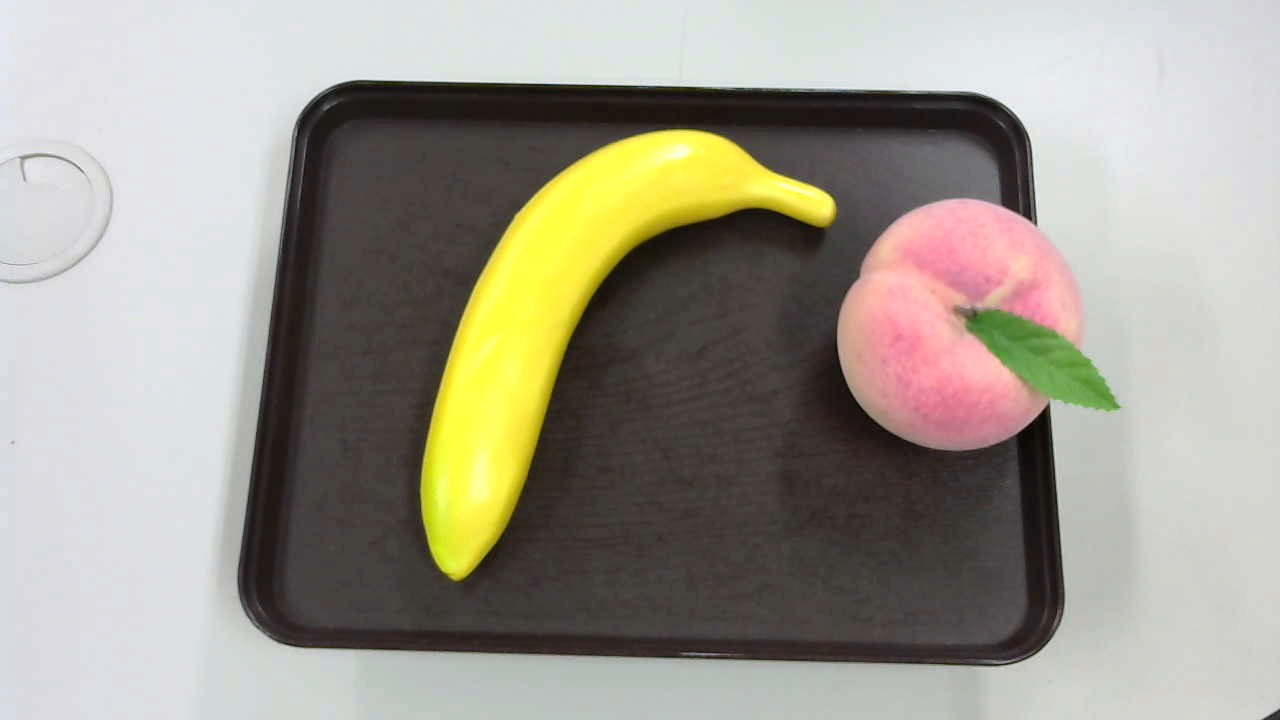banana: (414, 130, 837, 583)
peach: (837, 197, 1124, 455)
